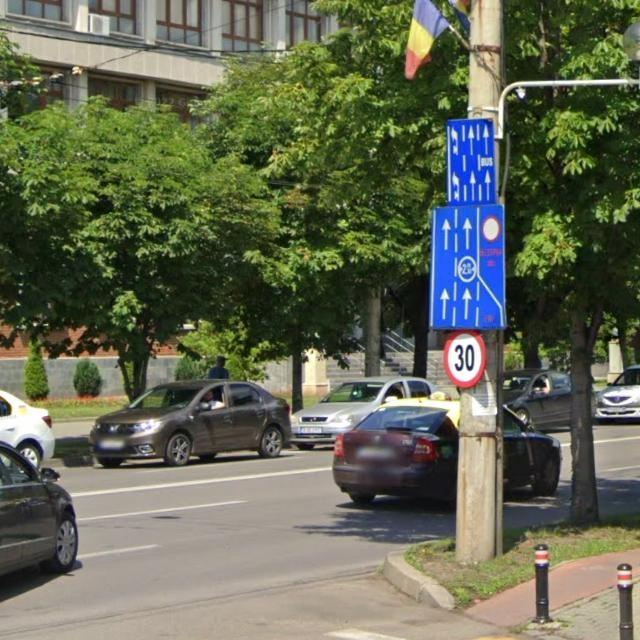forb_speed_over_30: (442, 331, 487, 390)
